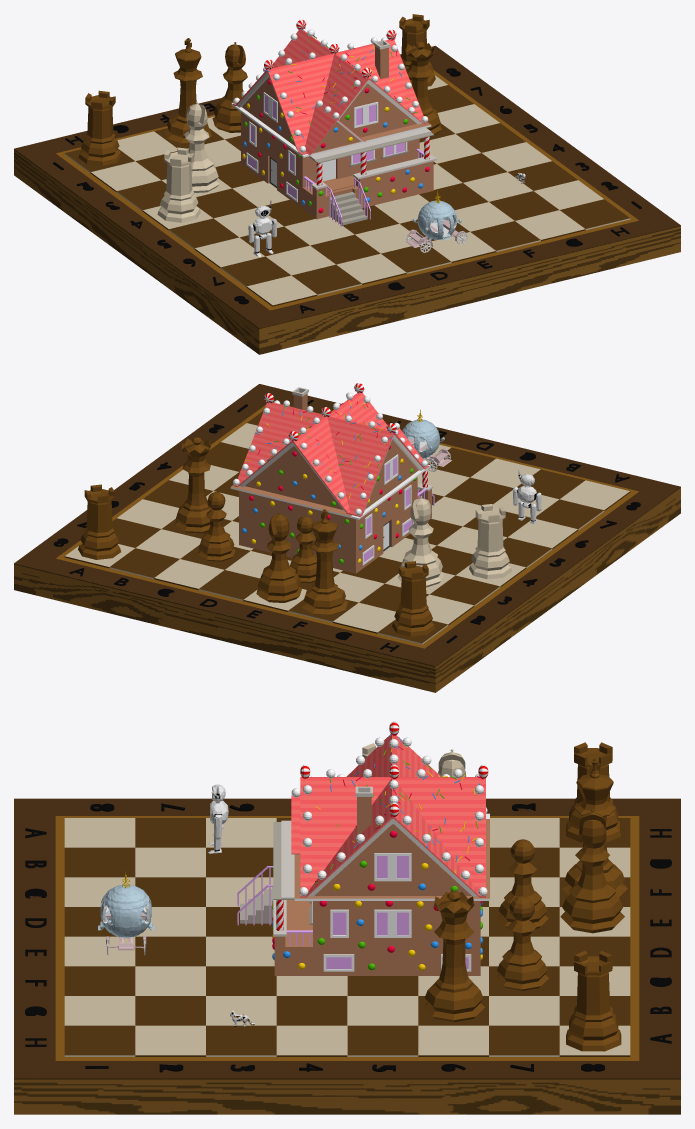
3 renders of one model, top to bottom at view 1: azimuth 30°, elevation 25°; view 2: azimuth 150°, elevation 25°; view 3: azimuth 270°, elevation 25°, orthographic. The views are drawn at different scales.
Visible parts, largest first — view 1: Cube.002, Cube.1203, VEHICLES_FANTASY_CARRIAGE, OBJRANDOM_PLATZEEBOT; view 2: Cube.002, Cube.1203, VEHICLES_FANTASY_CARRIAGE, OBJRANDOM_PLATZEEBOT; view 3: Cube.002, Cube.1203, VEHICLES_FANTASY_CARRIAGE, OBJRANDOM_PLATZEEBOT.
Boxes of the visible parts, <box> form: Cube.002: <box>14,14,680,354</box>; Cube.1203: <box>231,19,436,226</box>; VEHICLES_FANTASY_CARRIAGE: <box>406,190,467,252</box>; OBJRANDOM_PLATZEEBOT: <box>248,200,277,256</box>; Cube.002: <box>14,384,680,692</box>; Cube.1203: <box>230,383,434,573</box>; VEHICLES_FANTASY_CARRIAGE: <box>402,409,451,471</box>; OBJRANDOM_PLATZEEBOT: <box>513,469,541,523</box>; Cube.002: <box>14,742,680,1114</box>; Cube.1203: <box>237,721,489,975</box>; VEHICLES_FANTASY_CARRIAGE: <box>98,871,154,955</box>; OBJRANDOM_PLATZEEBOT: <box>208,784,228,853</box>.
Size of the model in its own units: 3981 by 1464 by 4012.
41 materials, 3 textured.
